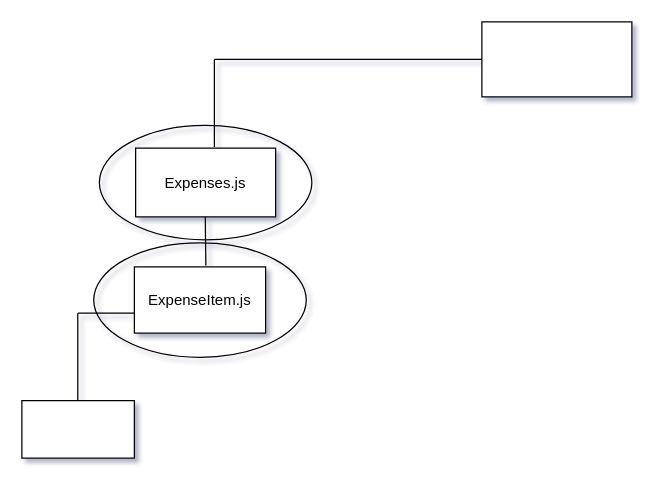
Some shapes in this 661 by 488 pixel diagram are drawn without their labels. Each missing label, with the centre of its shape:
App.js: (x=556, y=59)
ExpenseDate.js: (x=77, y=428)
